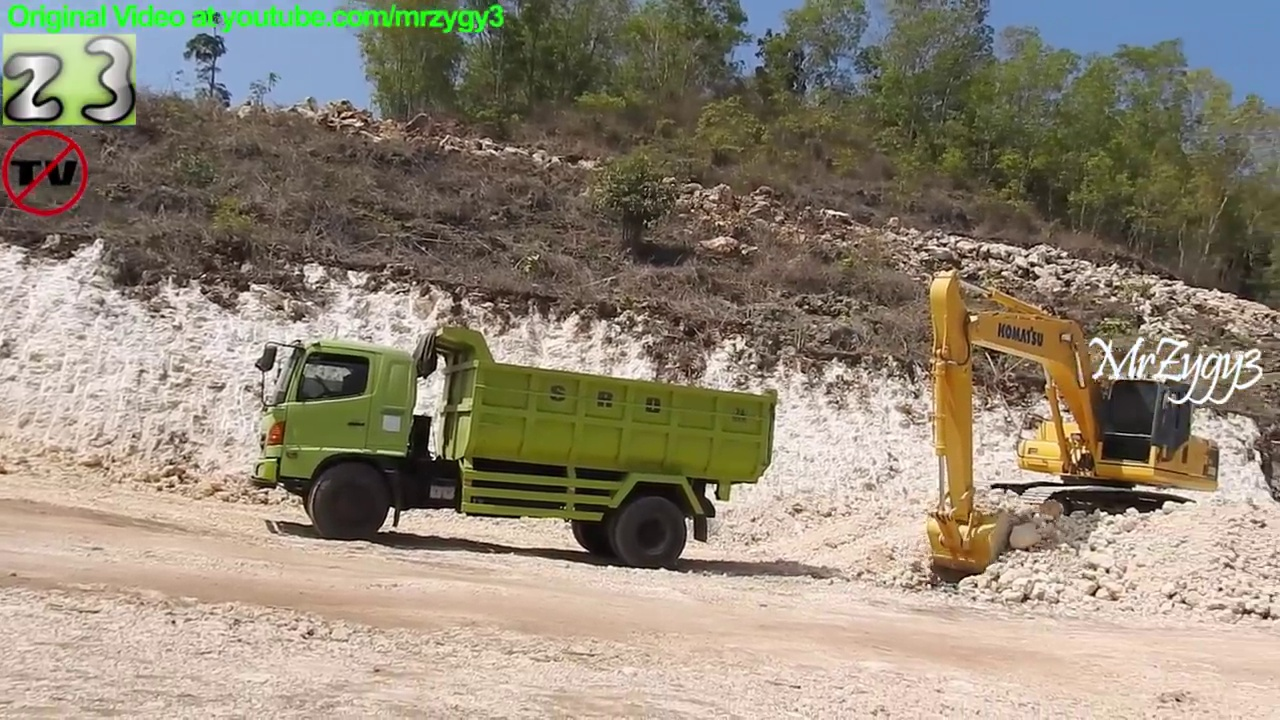excavator: (917, 262, 1229, 583)
truck: (244, 321, 785, 572)
